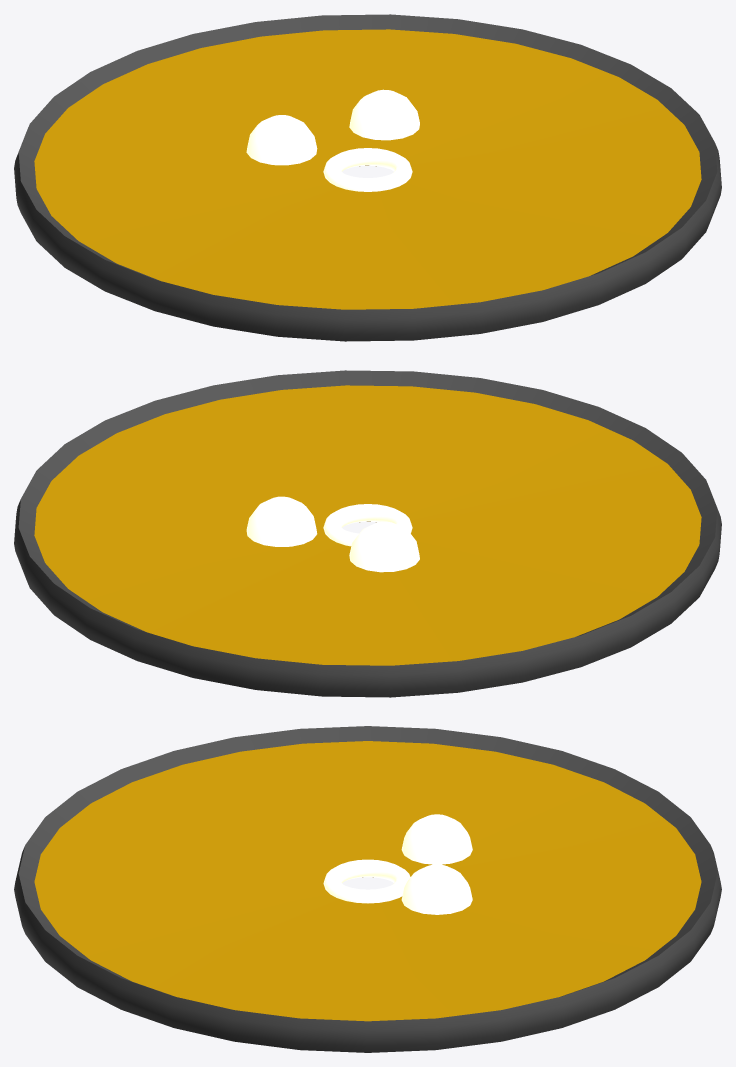
Rendered from WHEEL OF FORTUNE.glb.
The picture shows the model from 3 angles, top to bottom: view 1: azimuth 30°, elevation 25°; view 2: azimuth 150°, elevation 25°; view 3: azimuth 270°, elevation 25°; orthographic projection.
Parts seen in each view (by area): view 1: WHEEL OF FORTUNE; view 2: WHEEL OF FORTUNE; view 3: WHEEL OF FORTUNE.
Boxes of the visible parts, x1,y1,x2,y2 form: WHEEL OF FORTUNE: [14, 14, 721, 341]; WHEEL OF FORTUNE: [14, 370, 721, 697]; WHEEL OF FORTUNE: [14, 726, 721, 1052].
Size of the model in its own units: 1.42 by 0.1387 by 1.42.
